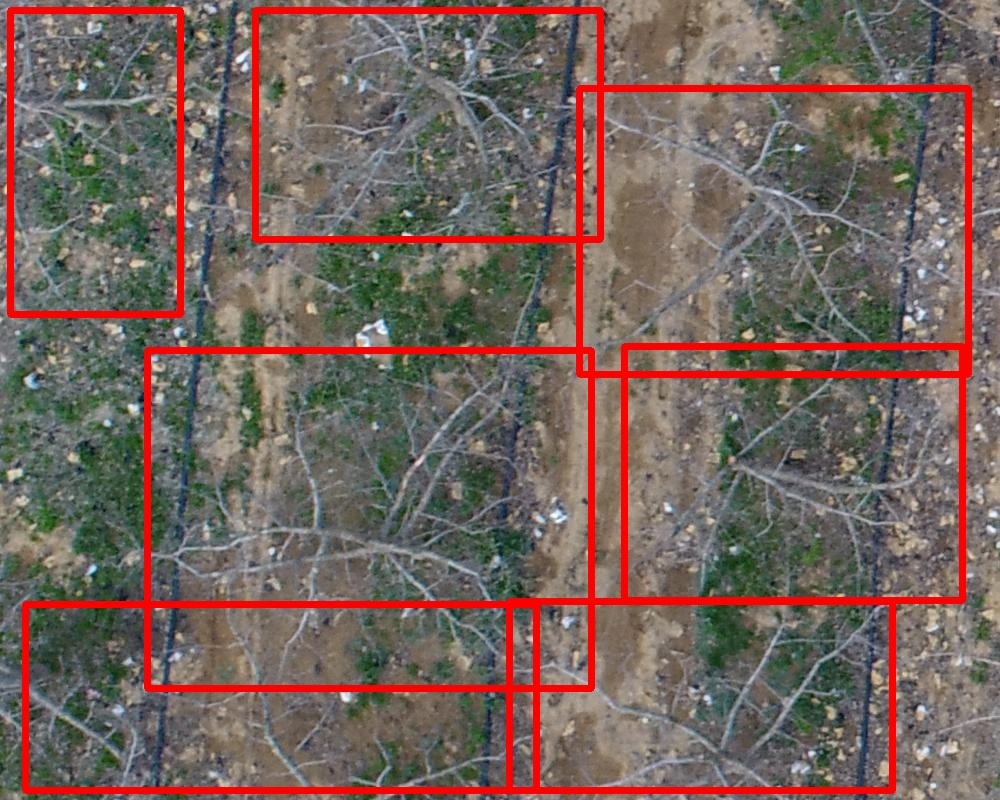apple: (147, 350, 591, 688), (579, 88, 968, 374), (25, 604, 536, 790), (624, 346, 962, 600), (255, 10, 600, 239), (509, 601, 892, 790), (10, 10, 180, 314)
